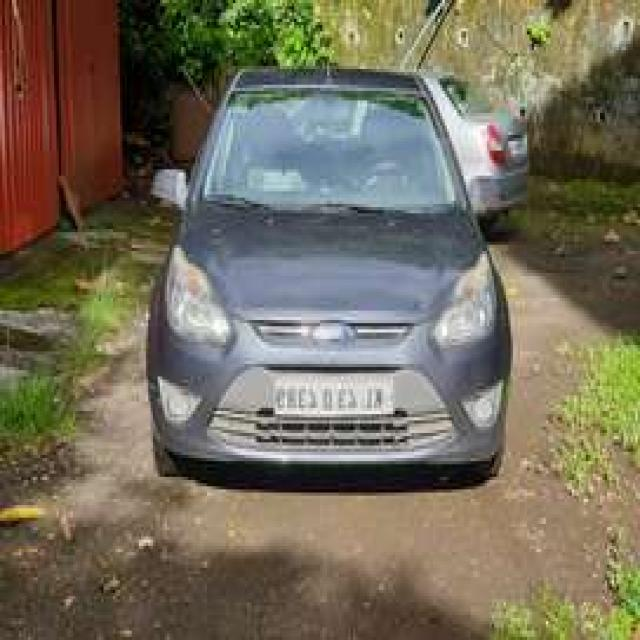license_plate: (271, 372, 395, 424)
